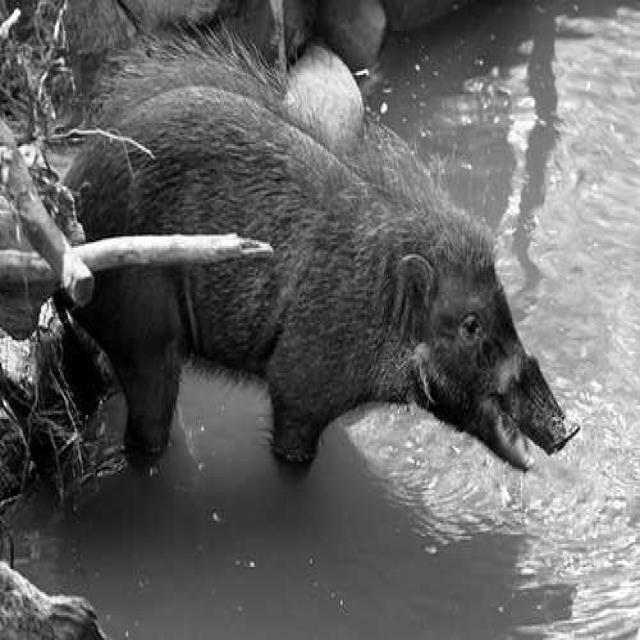boar: (67, 38, 579, 470)
